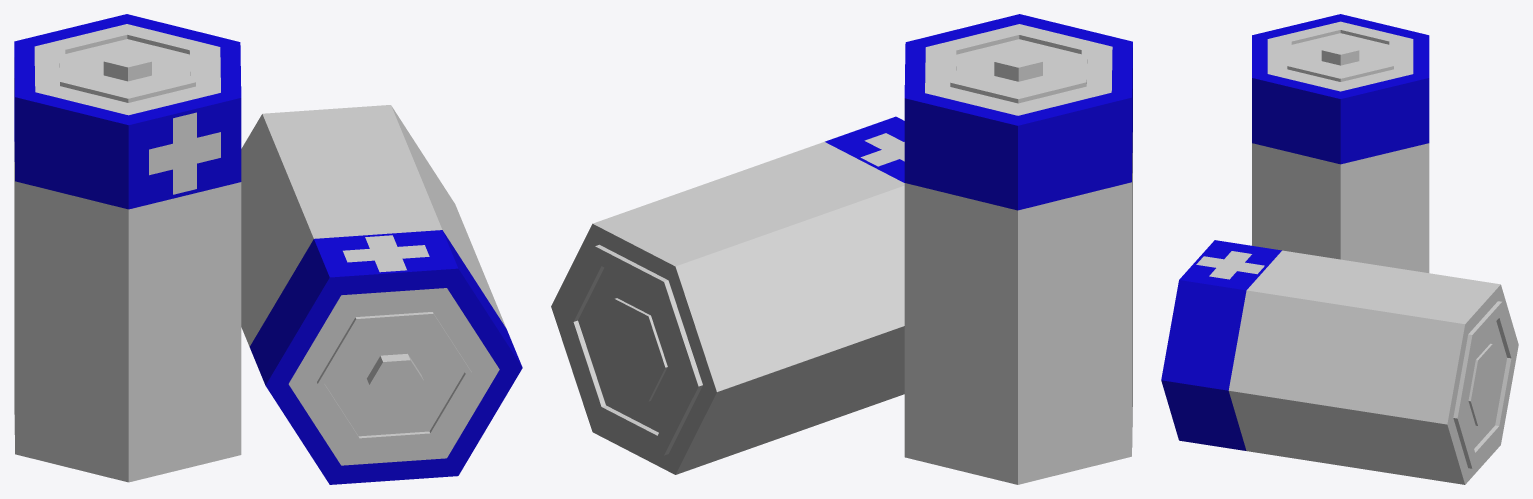
The model's file is SM_Battery_01.glb.
3 views of the same model, side by side, from view 1: azimuth 30°, elevation 25°; view 2: azimuth 150°, elevation 25°; view 3: azimuth 270°, elevation 25° (orthographic). The views are drawn at different scales.
Parts seen in each view (by area): view 1: SM_Battery_01; view 2: SM_Battery_01; view 3: SM_Battery_01.
Part boxes in pixels (x1=…): SM_Battery_01: x1=14, y1=14, x2=522, y2=484; SM_Battery_01: x1=551, y1=14, x2=1132, y2=484; SM_Battery_01: x1=1161, y1=14, x2=1518, y2=484.
Bounding box in the file's own units: 0.0756 × 0.0567 × 0.0594.
